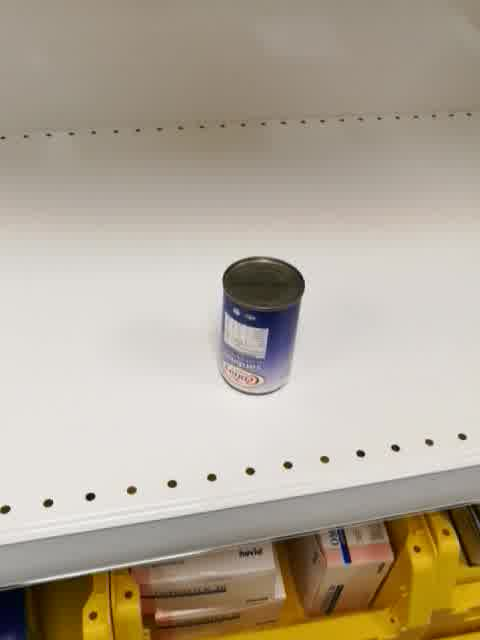sardine: (219, 257, 305, 397)
